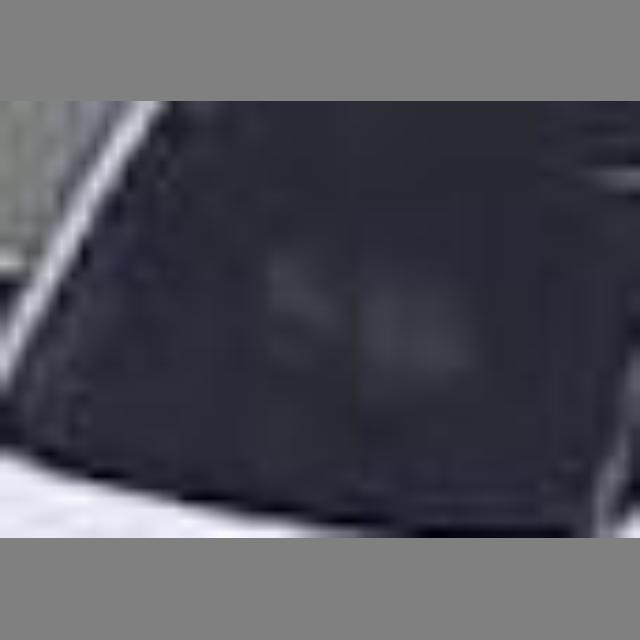tidak-pakai: (247, 202, 505, 415)
